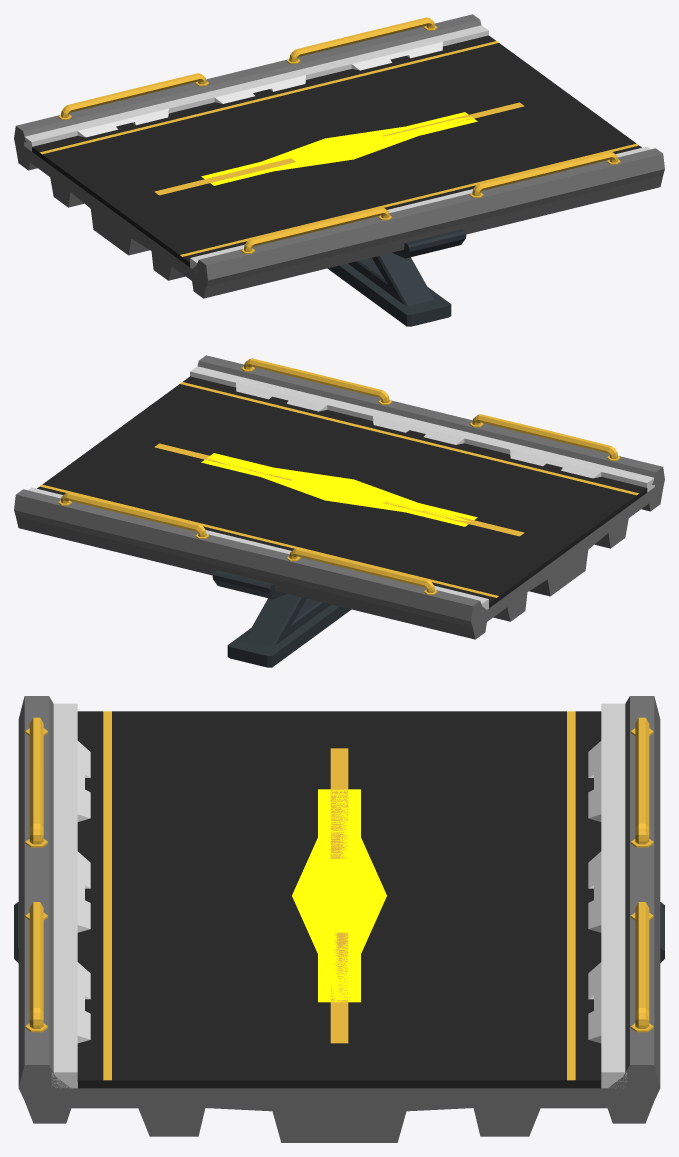
Rendered from I_road.glb.
3 renders of one model, top to bottom at view 1: azimuth 30°, elevation 25°; view 2: azimuth 150°, elevation 25°; view 3: azimuth 270°, elevation 25°, orthographic. The views are drawn at different scales.
Parts seen in each view (by area): view 1: YIZHI, 立方体.011, 立方体.012, 立方体.013, 柱体.002, 平面.006, 平面.043, 平面.017, 平面.005; view 2: YIZHI, 立方体.011, 立方体.012, 立方体.013, 柱体.002, 平面.017, 平面.006, 平面.043, 平面.005; view 3: YIZHI, 立方体.011, 立方体.012, 平面.017, 柱体.002, 平面.006, 平面.043, 平面.005.
Boxes of the visible parts, x1,y1,x2,y2 form: YIZHI: (32,35,641,266); 立方体.011: (14,14,664,298); 立方体.012: (24,25,650,271); 立方体.013: (327,229,466,326); 柱体.002: (58,17,620,253); 平面.006: (40,41,638,256); 平面.043: (201,117,469,185); 平面.017: (230,112,477,176); 平面.005: (154,102,524,195); YIZHI: (37,376,647,607); 立方体.011: (14,355,664,639); 立方体.012: (28,366,654,611); 立方体.013: (212,570,351,667); 柱体.002: (58,358,620,594); 平面.017: (201,453,469,521); 平面.006: (40,382,638,597); 平面.043: (209,458,477,526); 平面.005: (154,443,524,536); YIZHI: (77,711,601,1088); 立方体.011: (18,696,660,1142); 立方体.012: (51,703,627,1088); 平面.017: (292,790,386,1002); 柱体.002: (25,717,653,1032); 平面.006: (103,711,575,1080); 平面.043: (292,789,386,1001); 平面.005: (330,748,348,1043).
Bounding box in the file's own units: 10 × 2.65 × 7.46.
Materials: 6 (1 with a texture image).
